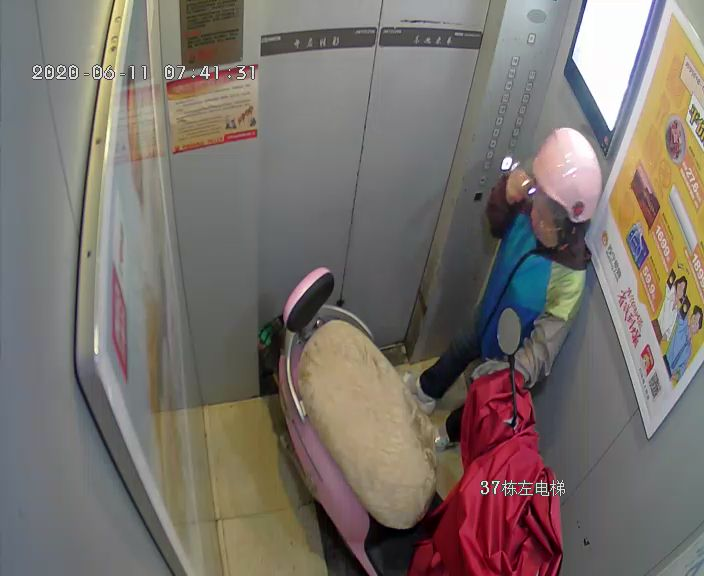Electric-bicycle: (282, 266, 440, 574)
